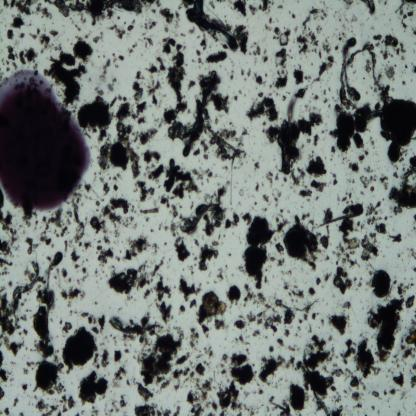Background material: (168, 69, 220, 156), (266, 112, 324, 176), (97, 100, 142, 179), (138, 324, 186, 390), (171, 184, 228, 236), (367, 294, 407, 364), (327, 104, 378, 155), (240, 214, 274, 290), (377, 98, 416, 164), (282, 213, 322, 270), (294, 360, 335, 415), (53, 0, 158, 20), (48, 53, 87, 105), (76, 96, 119, 138), (60, 325, 98, 372), (32, 285, 54, 359), (312, 201, 364, 231), (107, 260, 150, 296), (204, 121, 240, 162), (332, 219, 360, 266), (388, 167, 416, 213), (34, 358, 67, 396), (169, 158, 199, 199), (303, 336, 336, 371), (0, 283, 22, 334), (38, 206, 66, 246), (196, 290, 228, 324), (79, 372, 109, 405), (182, 363, 214, 392), (121, 235, 159, 259), (186, 388, 218, 416), (70, 186, 86, 240), (230, 352, 256, 385), (216, 380, 244, 410), (356, 338, 376, 380), (258, 355, 285, 386), (246, 96, 278, 122), (245, 310, 282, 332), (0, 208, 20, 245), (400, 317, 416, 362), (73, 34, 94, 64), (178, 274, 202, 300), (334, 265, 354, 296), (198, 244, 220, 272), (167, 42, 188, 71), (327, 310, 351, 335), (289, 382, 309, 412), (132, 180, 156, 204), (0, 332, 24, 356), (134, 401, 172, 416), (274, 298, 294, 326), (316, 54, 335, 81), (172, 235, 190, 262), (35, 396, 59, 416), (156, 106, 177, 128), (307, 155, 327, 178), (362, 235, 380, 260), (156, 274, 172, 302), (270, 396, 292, 416), (143, 161, 166, 180), (302, 7, 321, 30), (234, 24, 249, 53), (134, 381, 154, 402), (351, 375, 363, 410), (101, 206, 122, 226), (367, 199, 383, 225), (20, 207, 38, 230), (146, 76, 160, 105), (272, 26, 292, 46), (211, 92, 230, 113), (11, 0, 37, 15), (340, 340, 356, 364), (156, 302, 173, 324), (289, 166, 306, 188), (136, 129, 159, 145), (128, 100, 147, 119), (294, 298, 318, 313), (360, 175, 377, 196), (273, 47, 289, 69), (111, 367, 127, 389), (295, 34, 309, 59), (110, 196, 129, 214), (19, 47, 38, 65), (92, 348, 110, 367), (91, 214, 107, 235), (204, 50, 226, 65), (227, 284, 242, 306), (182, 0, 196, 23), (244, 283, 258, 305), (161, 35, 177, 54), (98, 245, 113, 265), (159, 5, 173, 25), (191, 164, 204, 185), (36, 4, 52, 21), (342, 37, 357, 55), (0, 241, 15, 259), (397, 281, 415, 296), (274, 70, 289, 88), (41, 33, 53, 55), (380, 35, 400, 48), (150, 260, 165, 277), (68, 287, 85, 302), (141, 150, 162, 162), (172, 368, 183, 390), (174, 351, 190, 366), (230, 158, 235, 206), (109, 25, 126, 39), (80, 310, 97, 324), (233, 0, 247, 17), (10, 12, 24, 29), (354, 275, 372, 288), (235, 128, 248, 146), (132, 82, 144, 101), (26, 236, 38, 255), (6, 43, 18, 62), (361, 0, 376, 15), (311, 179, 327, 193), (253, 72, 267, 87), (276, 217, 290, 232), (258, 0, 273, 14), (293, 68, 305, 85), (393, 371, 405, 388), (190, 327, 199, 349), (123, 216, 137, 230), (237, 151, 249, 167), (59, 393, 68, 414), (295, 85, 309, 98), (382, 85, 392, 103), (309, 30, 319, 47), (109, 399, 119, 416), (374, 222, 387, 235), (242, 212, 254, 226), (329, 404, 343, 416), (244, 402, 256, 416), (284, 356, 296, 370), (97, 313, 105, 334), (52, 251, 64, 265), (320, 234, 331, 249), (322, 38, 333, 53), (139, 309, 150, 324), (156, 57, 166, 73), (199, 140, 210, 154), (107, 78, 118, 92), (220, 127, 237, 136), (231, 211, 240, 228), (134, 69, 146, 81), (214, 318, 226, 330), (380, 174, 389, 190), (342, 190, 353, 203), (233, 319, 246, 330), (0, 256, 13, 267), (93, 30, 103, 44), (171, 219, 179, 236), (385, 64, 394, 79), (142, 36, 153, 48), (239, 334, 250, 346), (146, 63, 157, 75), (248, 3, 258, 16), (344, 368, 354, 381), (387, 234, 403, 242), (216, 266, 224, 282), (0, 368, 9, 382), (113, 350, 122, 364), (201, 324, 210, 338), (203, 346, 214, 357), (160, 194, 170, 206), (0, 186, 5, 210), (406, 294, 414, 309), (102, 58, 112, 70), (140, 207, 160, 213), (200, 32, 206, 52), (332, 391, 342, 403), (257, 292, 267, 304), (392, 353, 400, 368), (67, 396, 75, 411), (395, 3, 405, 15), (292, 290, 305, 299), (143, 286, 152, 299), (109, 334, 118, 347), (170, 205, 178, 219), (364, 59, 372, 73), (119, 394, 127, 408), (262, 302, 272, 313), (71, 251, 81, 262), (348, 162, 359, 172), (300, 189, 312, 198), (6, 28, 15, 40), (410, 154, 416, 172), (81, 267, 88, 282), (331, 369, 344, 377), (102, 181, 110, 194), (276, 242, 284, 255), (400, 149, 408, 162), (83, 182, 93, 192), (187, 26, 197, 36), (276, 257, 286, 267), (90, 325, 100, 335), (371, 366, 381, 376), (224, 218, 233, 229), (188, 79, 197, 90), (63, 322, 72, 333), (409, 375, 416, 389), (370, 232, 378, 244), (30, 29, 42, 37), (0, 349, 5, 368), (311, 76, 321, 85), (94, 86, 104, 95), (67, 209, 72, 227), (112, 228, 121, 238), (26, 361, 36, 370), (252, 328, 261, 338), (372, 391, 382, 400), (60, 288, 69, 298), (196, 49, 202, 64), (408, 247, 416, 258), (334, 103, 342, 114), (109, 96, 117, 107), (400, 389, 408, 400), (172, 405, 180, 416), (61, 267, 68, 279), (280, 269, 292, 276), (266, 171, 273, 183), (316, 23, 323, 35), (63, 239, 69, 253), (20, 313, 29, 322), (148, 21, 157, 30), (1, 0, 10, 9), (252, 47, 262, 55), (287, 344, 297, 352), (304, 102, 312, 112), (342, 300, 352, 308), (49, 30, 59, 38), (282, 280, 290, 290), (190, 298, 198, 308), (324, 272, 332, 282), (262, 193, 270, 203), (137, 116, 147, 124), (204, 168, 212, 178), (313, 134, 319, 147), (91, 405, 98, 416), (12, 396, 19, 407), (0, 385, 5, 400), (308, 287, 316, 296), (374, 101, 382, 110), (84, 241, 92, 250), (102, 235, 111, 243), (242, 389, 250, 398), (192, 147, 200, 156), (264, 23, 273, 31), (178, 305, 186, 314), (222, 353, 229, 363), (53, 43, 63, 50), (101, 69, 108, 79), (122, 334, 127, 348), (0, 268, 10, 275), (409, 24, 416, 34), (343, 0, 354, 6), (401, 18, 407, 29), (79, 14, 85, 25), (189, 265, 195, 276), (237, 265, 245, 273), (3, 408, 11, 416), (203, 360, 211, 368), (329, 145, 336, 154), (74, 23, 81, 32), (389, 387, 396, 396), (212, 240, 221, 247), (373, 34, 382, 41), (278, 337, 284, 347), (384, 50, 390, 60), (360, 219, 365, 231), (55, 266, 60, 278), (254, 182, 260, 192), (332, 173, 337, 185), (22, 328, 29, 336), (322, 366, 330, 373), (113, 255, 121, 262), (253, 162, 260, 170), (262, 54, 269, 62), (314, 194, 321, 202), (113, 173, 121, 180), (92, 171, 97, 182), (401, 43, 406, 54), (85, 216, 90, 227), (364, 166, 373, 172), (322, 9, 328, 18), (69, 239, 75, 248), (126, 24, 135, 30), (19, 31, 25, 40), (268, 344, 274, 353), (284, 328, 290, 337), (315, 277, 321, 286), (392, 162, 398, 171), (212, 370, 216, 383), (318, 47, 322, 60), (174, 19, 179, 29), (330, 385, 337, 392), (118, 54, 125, 61), (219, 409, 226, 416), (326, 357, 333, 364), (221, 164, 228, 171), (251, 41, 258, 48), (66, 300, 73, 307), (174, 10, 180, 18), (116, 93, 122, 101), (7, 280, 13, 288), (86, 30, 92, 38), (309, 150, 315, 158), (302, 180, 308, 188), (334, 43, 340, 51), (209, 0, 215, 8), (126, 294, 132, 302), (32, 62, 38, 70), (162, 24, 168, 32), (400, 0, 416, 3), (22, 367, 28, 375), (410, 64, 416, 72), (22, 382, 28, 390), (358, 154, 364, 162), (276, 4, 284, 10), (12, 62, 18, 70), (274, 195, 278, 207), (158, 221, 163, 230), (130, 203, 135, 212), (352, 13, 357, 22), (239, 188, 244, 197), (194, 238, 199, 247), (308, 323, 312, 334), (247, 67, 251, 78), (221, 43, 228, 49), (306, 138, 312, 145), (257, 389, 264, 395), (220, 369, 227, 375), (203, 154, 209, 161), (388, 368, 394, 375), (274, 173, 280, 180), (225, 179, 231, 186), (74, 264, 82, 269), (230, 70, 234, 80), (99, 341, 107, 346), (294, 25, 299, 33), (265, 404, 270, 412), (195, 353, 203, 358), (132, 42, 138, 48), (370, 405, 376, 411), (305, 75, 311, 81), (408, 11, 414, 17), (128, 48, 134, 54), (239, 314, 245, 320), (257, 91, 263, 97), (191, 199, 194, 211), (92, 17, 96, 26), (144, 216, 150, 222), (236, 410, 242, 416), (303, 314, 309, 320), (155, 0, 161, 6), (359, 332, 365, 338), (219, 362, 225, 368), (312, 311, 316, 320), (123, 347, 129, 353), (393, 172, 399, 178), (53, 355, 58, 362), (328, 336, 333, 343), (193, 255, 198, 262), (413, 308, 416, 319), (321, 318, 325, 326), (378, 74, 382, 82), (332, 363, 340, 367), (384, 388, 388, 396), (333, 10, 337, 18), (96, 199, 100, 207), (126, 378, 130, 386), (277, 190, 281, 198), (214, 117, 218, 125), (238, 236, 242, 244), (396, 47, 400, 55), (369, 262, 373, 270), (371, 141, 375, 149), (112, 57, 117, 63), (314, 94, 319, 100), (80, 410, 86, 415), (299, 318, 304, 324), (233, 94, 238, 100), (151, 9, 156, 15), (342, 32, 347, 38), (397, 410, 402, 416), (181, 32, 186, 38), (75, 278, 80, 284), (413, 212, 416, 222), (68, 310, 73, 316), (268, 18, 273, 24), (368, 25, 374, 30), (311, 48, 317, 53), (19, 411, 25, 416), (24, 345, 29, 351), (312, 106, 318, 111), (323, 98, 328, 104), (325, 254, 329, 261), (276, 216, 280, 223), (336, 195, 340, 202), (282, 94, 286, 101), (274, 382, 278, 389), (114, 184, 118, 191), (164, 224, 168, 231), (273, 307, 277, 314), (1, 58, 5, 65), (263, 48, 267, 55), (413, 361, 416, 370), (217, 0, 226, 3), (352, 69, 357, 74), (177, 4, 182, 9), (347, 178, 352, 183), (278, 378, 284, 382), (283, 177, 287, 183), (95, 268, 98, 276), (6, 67, 10, 73), (402, 80, 406, 86), (342, 155, 346, 161), (235, 336, 238, 344), (362, 385, 366, 391), (58, 410, 62, 416), (132, 354, 136, 360), (280, 208, 284, 214), (262, 120, 266, 126), (6, 60, 10, 66), (53, 274, 57, 280), (394, 279, 398, 285), (356, 220, 360, 226), (144, 23, 147, 31), (384, 0, 388, 6), (141, 32, 147, 36), (68, 278, 72, 284), (78, 241, 82, 247), (254, 58, 257, 66), (323, 0, 326, 7), (242, 69, 245, 76), (374, 87, 378, 92), (334, 98, 339, 102), (344, 389, 348, 394), (306, 197, 310, 202), (163, 93, 167, 98), (112, 52, 116, 57), (376, 42, 380, 47), (348, 387, 352, 392), (338, 36, 342, 41), (97, 239, 102, 243), (263, 207, 268, 211), (222, 233, 226, 238), (342, 24, 346, 29), (246, 349, 250, 354), (75, 412, 80, 416), (226, 378, 230, 383), (310, 61, 314, 66), (350, 63, 354, 68), (192, 58, 196, 63), (278, 213, 283, 217), (396, 388, 401, 392), (150, 228, 154, 233), (132, 19, 136, 24), (404, 14, 408, 19), (269, 84, 273, 89), (179, 204, 183, 209), (214, 173, 218, 178), (377, 0, 382, 4), (291, 14, 296, 18), (365, 151, 369, 156), (370, 270, 373, 276), (289, 291, 292, 297), (124, 96, 127, 102), (387, 396, 390, 402), (385, 215, 388, 221), (218, 233, 221, 239), (352, 178, 355, 184), (268, 92, 272, 96), (264, 73, 268, 77), (392, 77, 396, 81), (338, 18, 342, 22), (100, 198, 104, 202), (254, 201, 258, 205), (123, 21, 127, 25), (294, 284, 298, 288), (410, 276, 414, 280), (320, 16, 324, 20), (290, 298, 294, 302), (380, 50, 384, 54), (59, 320, 63, 324), (214, 280, 218, 284), (296, 0, 300, 4), (413, 267, 416, 272), (324, 155, 327, 160), (34, 395, 37, 400), (405, 64, 408, 69), (232, 231, 235, 236), (206, 178, 209, 183), (365, 90, 368, 95), (274, 236, 277, 241), (336, 301, 339, 306), (102, 53, 105, 58), (410, 370, 413, 375), (164, 241, 167, 246), (295, 332, 298, 337), (115, 63, 118, 68), (261, 182, 264, 187), (402, 367, 405, 372), (370, 136, 373, 141), (244, 77, 247, 82), (88, 77, 91, 82), (225, 264, 228, 269), (313, 16, 316, 21), (117, 16, 120, 20), (403, 168, 406, 172), (412, 137, 416, 140), (223, 14, 226, 18), (346, 404, 349, 408), (328, 86, 330, 92), (394, 63, 397, 67), (331, 399, 334, 403), (96, 209, 100, 212), (254, 391, 257, 395), (338, 32, 341, 36), (324, 89, 326, 95), (377, 410, 380, 414), (286, 91, 290, 94), (316, 15, 319, 19), (230, 6, 233, 10), (206, 281, 209, 285), (197, 35, 200, 39), (298, 326, 301, 330), (230, 122, 233, 126), (158, 185, 161, 189), (94, 301, 97, 305), (403, 406, 406, 410), (300, 205, 304, 208), (391, 54, 394, 58), (404, 68, 406, 74), (288, 10, 291, 14), (239, 90, 242, 94), (290, 55, 293, 59), (328, 103, 331, 107), (81, 248, 84, 252), (413, 226, 416, 230), (398, 254, 401, 258), (70, 42, 73, 46), (336, 89, 338, 95), (29, 22, 32, 26), (299, 64, 301, 69), (392, 87, 394, 92), (402, 56, 404, 61), (249, 51, 251, 56), (239, 201, 241, 206), (262, 128, 264, 133), (289, 49, 292, 52), (97, 55, 100, 58), (265, 336, 268, 339), (231, 273, 234, 276), (229, 253, 232, 256), (312, 92, 314, 96), (308, 27, 310, 31), (388, 216, 392, 218), (356, 288, 358, 292), (298, 414, 302, 416), (276, 92, 278, 96), (86, 258, 88, 262), (253, 363, 255, 367), (0, 411, 2, 415), (367, 17, 369, 21), (102, 270, 104, 274), (362, 77, 366, 79), (410, 18, 412, 21), (332, 96, 334, 99), (362, 307, 364, 310), (414, 402, 416, 405), (411, 62, 413, 65), (322, 130, 324, 133), (330, 158, 332, 161), (281, 184, 284, 186), (233, 167, 236, 169), (261, 404, 264, 406), (213, 387, 216, 389), (288, 210, 290, 213), (370, 87, 373, 89), (389, 18, 391, 21), (364, 414, 367, 416), (411, 79, 413, 82), (344, 395, 346, 398), (387, 61, 390, 63), (383, 13, 385, 16), (1, 39, 3, 42), (70, 17, 72, 20), (351, 25, 353, 28), (331, 7, 333, 10), (244, 93, 245, 98), (414, 42, 416, 44), (72, 21, 74, 23), (345, 14, 347, 16), (404, 278, 406, 280), (335, 28, 337, 30), (404, 30, 406, 32), (334, 32, 335, 36), (402, 70, 403, 74), (317, 312, 319, 314), (352, 30, 354, 32), (383, 199, 385, 201), (328, 36, 329, 39), (346, 18, 347, 21), (340, 14, 341, 16), (389, 406, 390, 408), (318, 19, 319, 21), (392, 28, 393, 30), (405, 269, 406, 271), (411, 149, 412, 150)
Cellulose filter fibre: (193, 0, 238, 47), (352, 40, 382, 90), (12, 260, 40, 302), (338, 51, 356, 110), (110, 319, 157, 337), (46, 258, 56, 316), (287, 94, 299, 123)
Diatom: (370, 268, 390, 300)
Fragment: (163, 167, 176, 191)
Pen: (0, 70, 91, 210)
